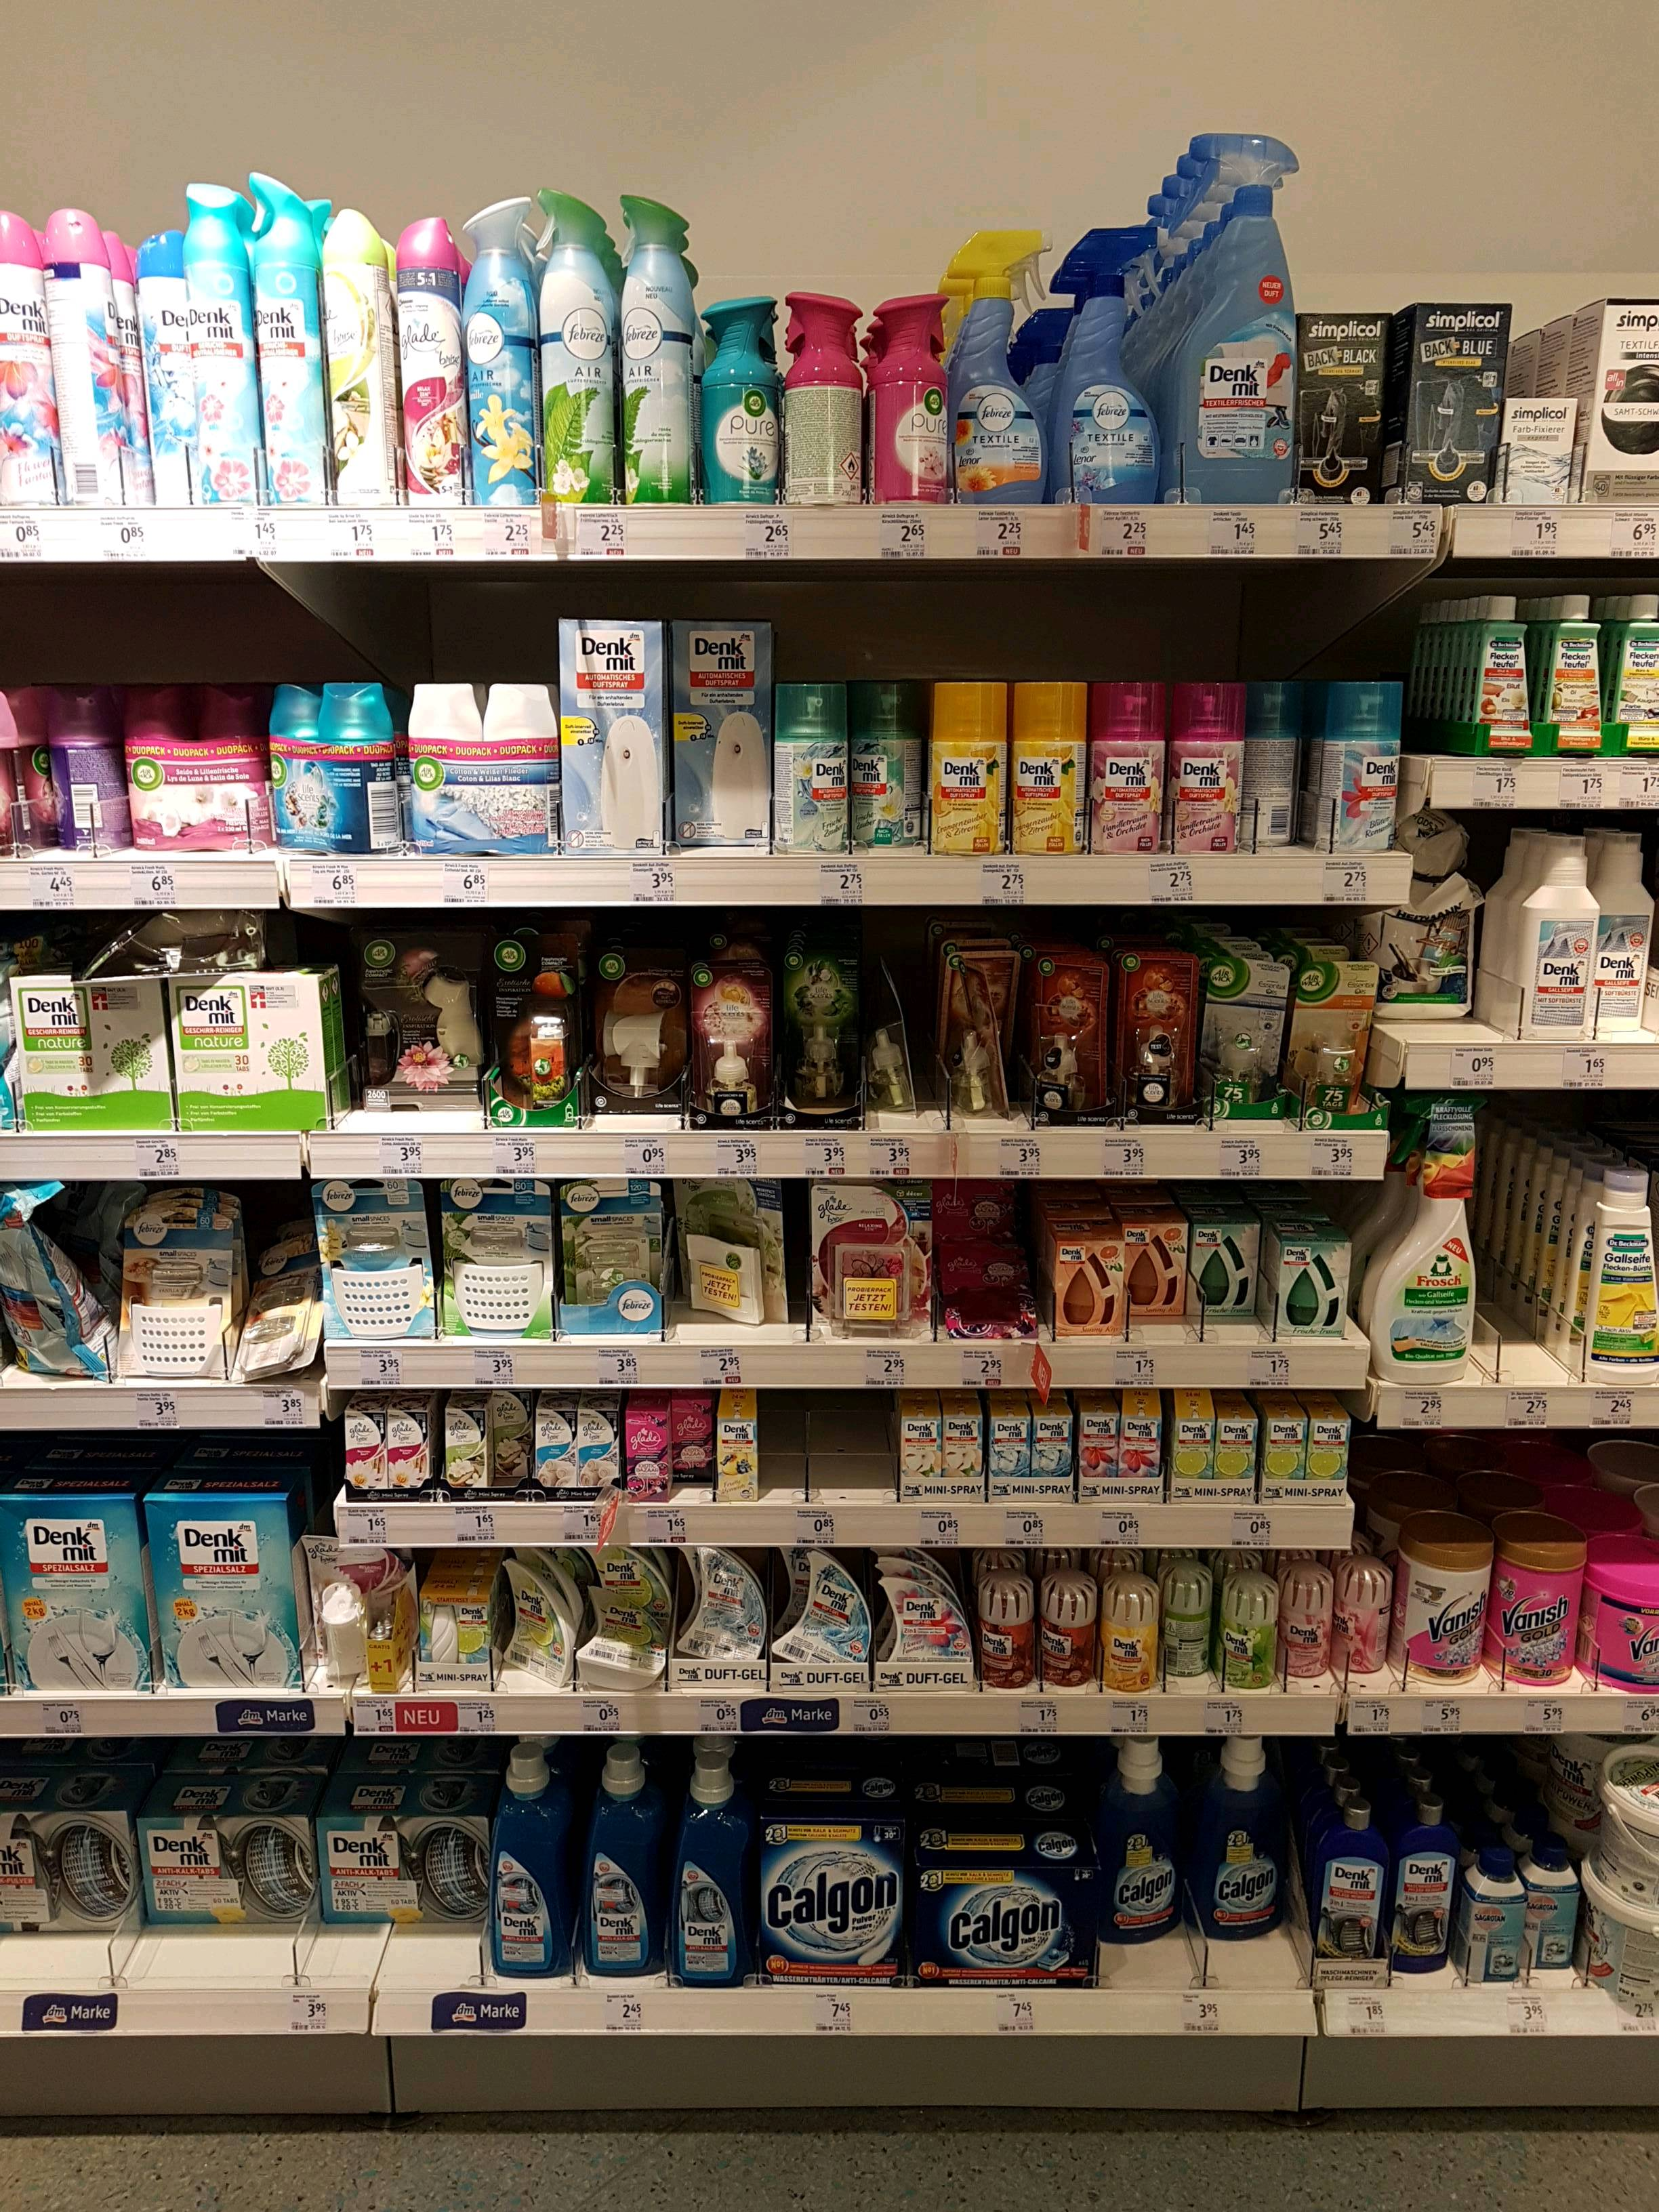Misplacement: (1100, 1735, 1195, 1986)
